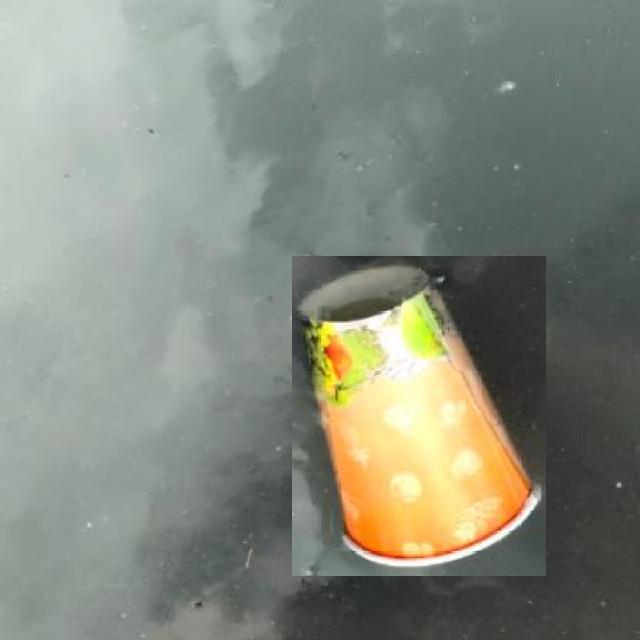Plastic cup: (292, 256, 546, 576)
